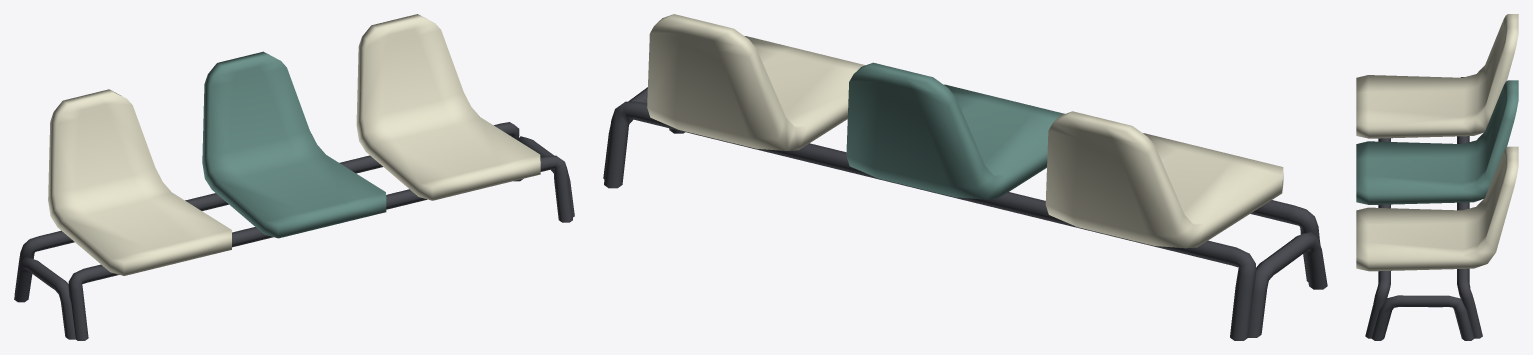
The model's file is MDL_Chairs.fbx.
3 views of the same model, side by side, from view 1: azimuth 30°, elevation 25°; view 2: azimuth 150°, elevation 25°; view 3: azimuth 270°, elevation 25° (orthographic). The views are drawn at different scales.
Parts seen in each view (by area): view 1: Cube.001; view 2: Cube.001; view 3: Cube.001.
Boxes of the visible parts, x1,y1,x2,y2 form: Cube.001: (14, 14, 574, 340); Cube.001: (603, 14, 1327, 340); Cube.001: (1356, 14, 1518, 340).
Size of the model in its own units: 295 by 89.8 by 93.07.
Materials: 1 (1 with a texture image).
